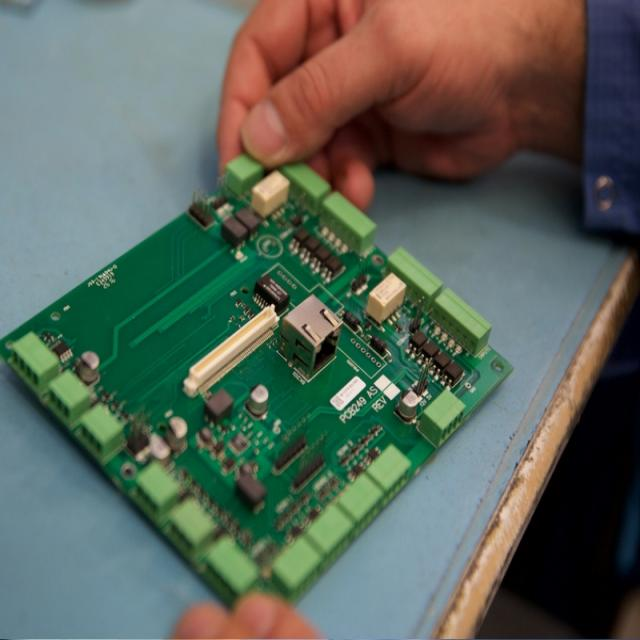pcb: (1, 150, 515, 616), (277, 292, 342, 379), (364, 271, 406, 324)
